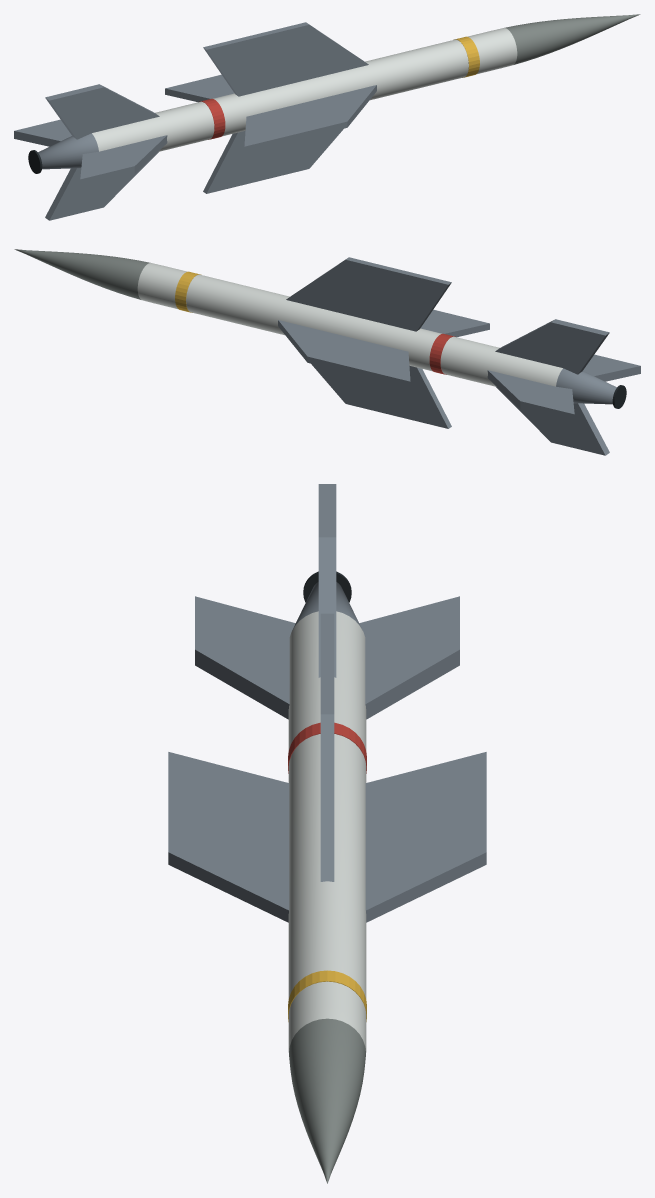
File: cw90_sea_sparrow.glb
The picture shows the model from 3 angles, top to bottom: view 1: azimuth 30°, elevation 25°; view 2: azimuth 150°, elevation 25°; view 3: azimuth 270°, elevation 25°; orthographic projection. The views are drawn at different scales.
Visible parts, largest first — view 1: cw90_sea_sparrow; view 2: cw90_sea_sparrow; view 3: cw90_sea_sparrow.
Boxes of the visible parts, box(x1,y1,x2,y2) form: cw90_sea_sparrow: box(14, 14, 640, 220); cw90_sea_sparrow: box(14, 249, 640, 455); cw90_sea_sparrow: box(168, 484, 486, 1183).
Size of the model in its own units: 10 by 2.27 by 2.27.
